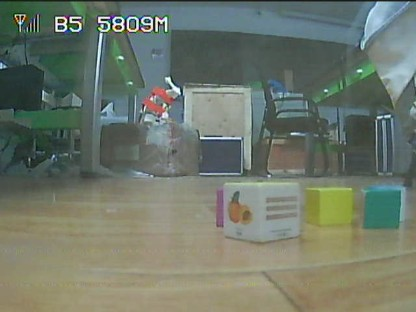g: (365, 191, 398, 227)
